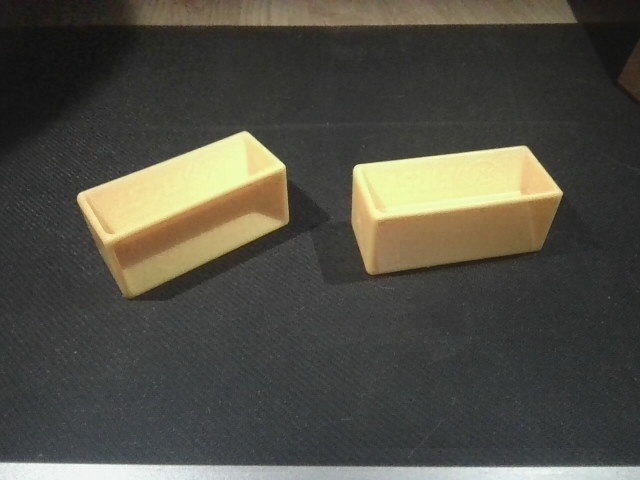YellowSample: (63, 127, 298, 299), (339, 141, 562, 287)
